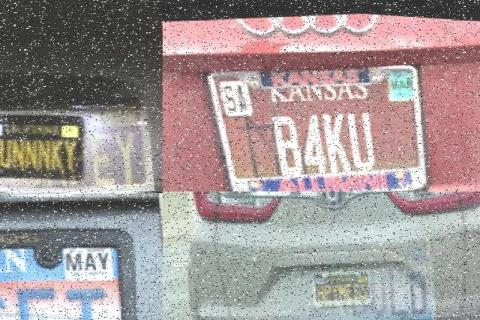LicensePlate: (209, 61, 429, 191), (0, 208, 163, 320), (0, 104, 97, 184), (312, 262, 382, 306)
